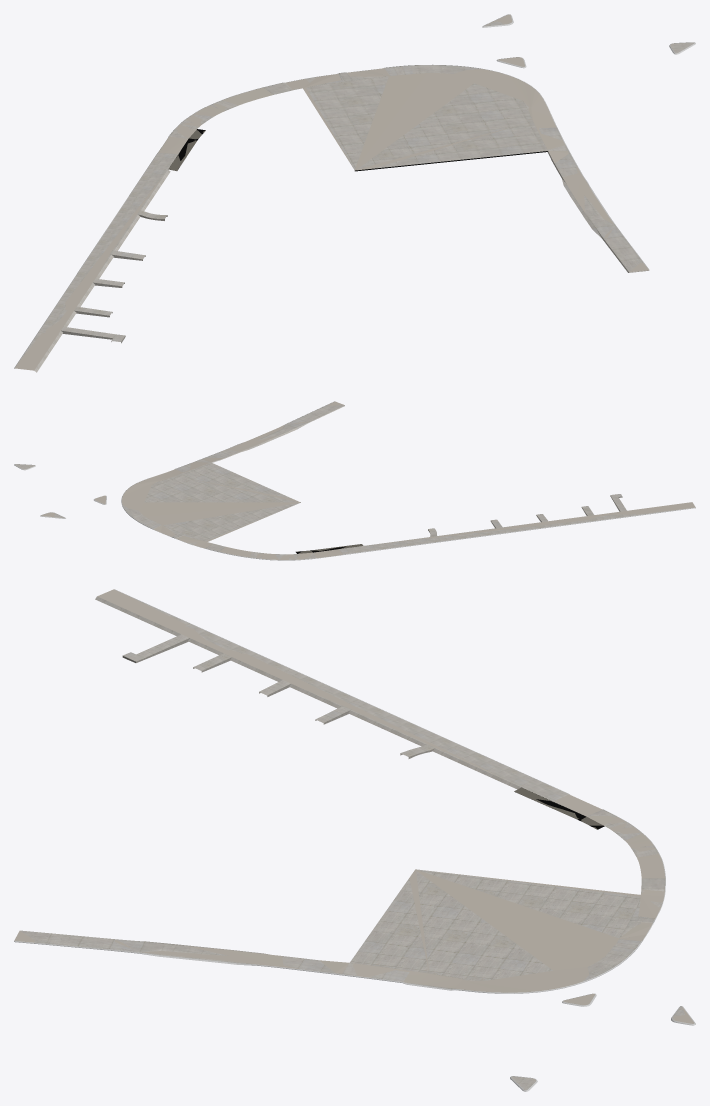
File: sidewalk_motel.dae
3 views of the same model, one above another, from view 1: azimuth 30°, elevation 25°; view 2: azimuth 150°, elevation 25°; view 3: azimuth 270°, elevation 25° (orthographic). The views are drawn at different scales.
Visible parts, largest first — view 1: sidewalk_motel_L3000, sidewalk_motel_L2000; view 2: sidewalk_motel_L3000, sidewalk_motel_L2000; view 3: sidewalk_motel_L3000, sidewalk_motel_L2000.
Part boxes in pixels (x1,y1,x2,y2): sidewalk_motel_L3000: [14, 14, 695, 372]; sidewalk_motel_L2000: [15, 14, 686, 370]; sidewalk_motel_L3000: [14, 401, 695, 560]; sidewalk_motel_L2000: [23, 401, 695, 559]; sidewalk_motel_L3000: [14, 589, 695, 1091]; sidewalk_motel_L2000: [14, 589, 693, 1083].
Bounding box in the file's own units: 191 × 113 × 3.37.
